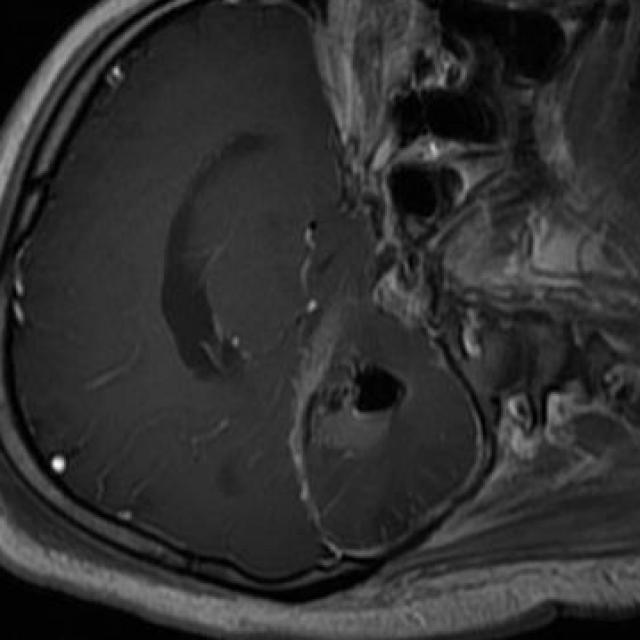glioma: (312, 355, 408, 462)
